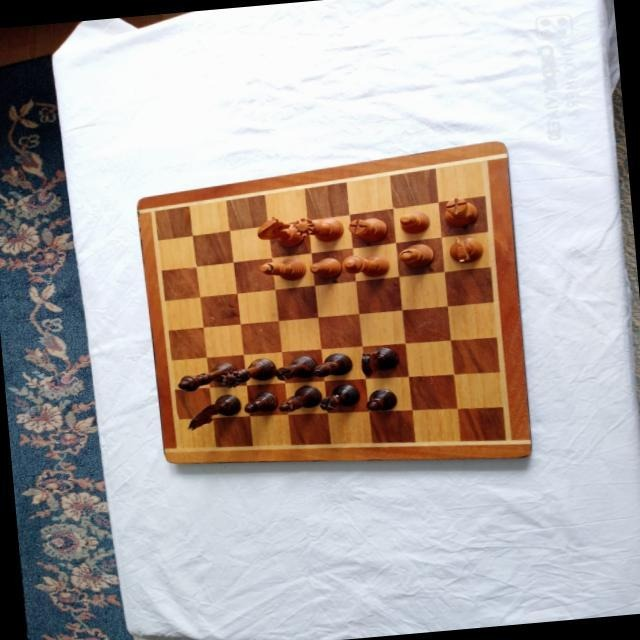black-bishop: (296, 352, 352, 383), (275, 382, 324, 414)
black-king: (174, 364, 236, 392)
black-knight: (178, 393, 242, 431), (358, 345, 400, 379)
black-pawn: (363, 386, 399, 414), (243, 389, 281, 415)
black-queen: (213, 359, 275, 388)
black-rook: (316, 381, 362, 415), (274, 352, 318, 381)
white-bishop: (257, 256, 307, 284), (396, 241, 436, 270)
white-king: (341, 249, 391, 280)
white-knight: (256, 213, 306, 249), (447, 234, 483, 265)
white-pawn: (397, 208, 431, 234), (309, 255, 343, 280)
white-queen: (291, 212, 345, 244)
white-rook: (442, 195, 482, 231), (346, 212, 388, 244)
